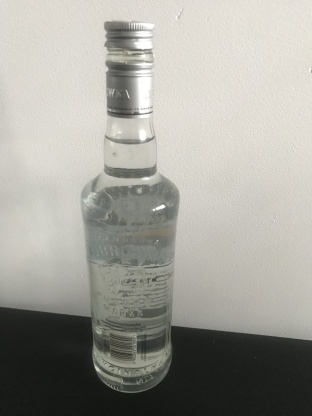nakretka: (102, 18, 155, 118)
